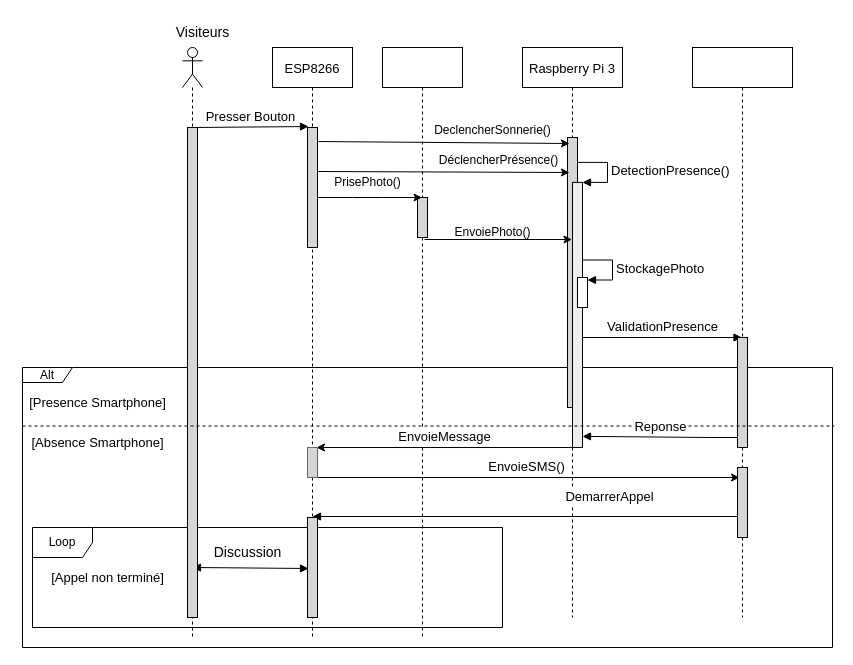
The diagram is 853 pixels wide and 665 high, and some of its shapes have lost their labels. The shapes that lost their labels are listed below. From the top down, each one's box as (x1, y1, x2, y2) in pixels, then its label:
(382, 46, 462, 638): ESP32CAM
(692, 46, 792, 618): Smartphone Utilisateur
